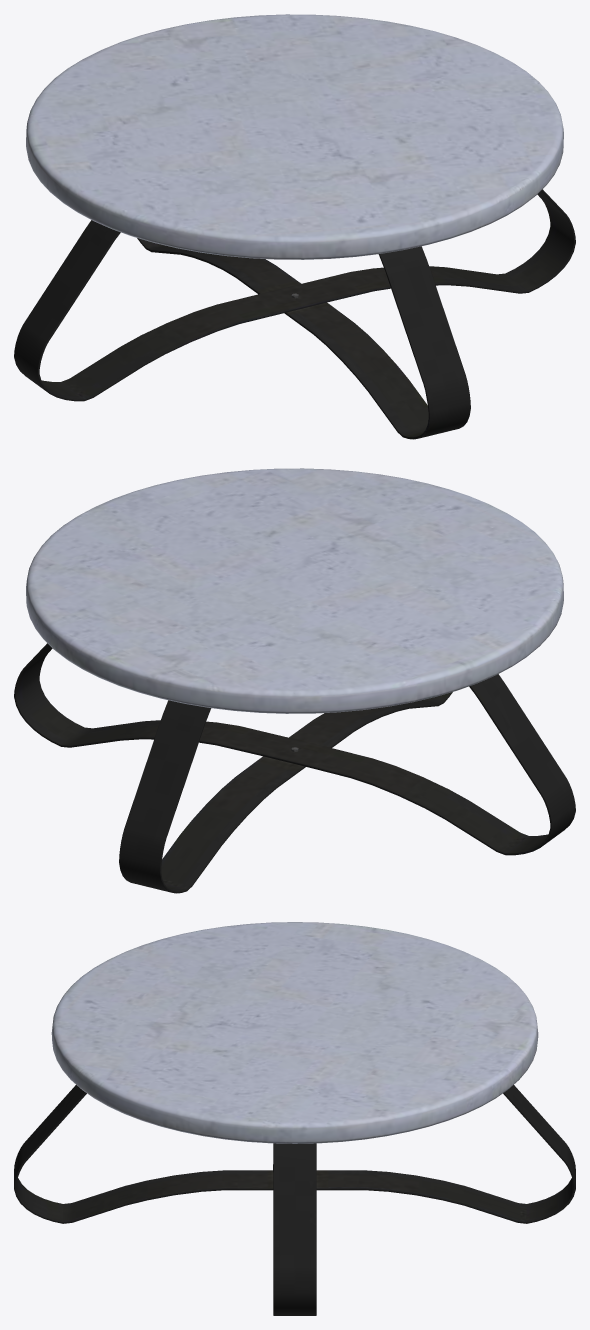
The model's file is coffee_table_round_01.glb.
The picture shows the model from 3 angles, top to bottom: view 1: azimuth 30°, elevation 25°; view 2: azimuth 150°, elevation 25°; view 3: azimuth 270°, elevation 25°; orthographic projection. The views are drawn at different scales.
Visible parts, largest first — view 1: coffee_table_round_01; view 2: coffee_table_round_01; view 3: coffee_table_round_01.
Boxes of the visible parts, x1,y1,x2,y2 form: coffee_table_round_01: [14, 14, 575, 439]; coffee_table_round_01: [14, 468, 575, 893]; coffee_table_round_01: [14, 922, 575, 1315].
Bounding box in the file's own units: 1.3 × 0.491 × 1.3.
1 material, 1 textured.
